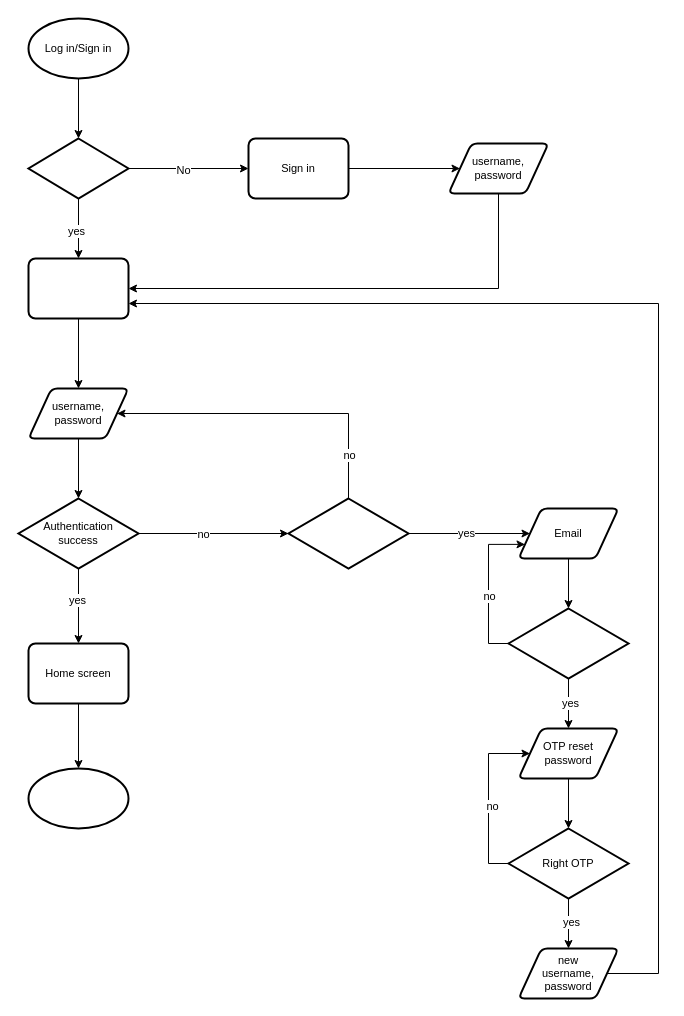
This 684x1016 diagram has some shape labels left out. Each missing label, with the centre of its shape:
"Account existed" belongs at [568,643].
"End" belongs at [78,798].
"Forgot password" belongs at [348,533].
"Have account" belongs at [78,168].
"Log in" belongs at [78,288].
